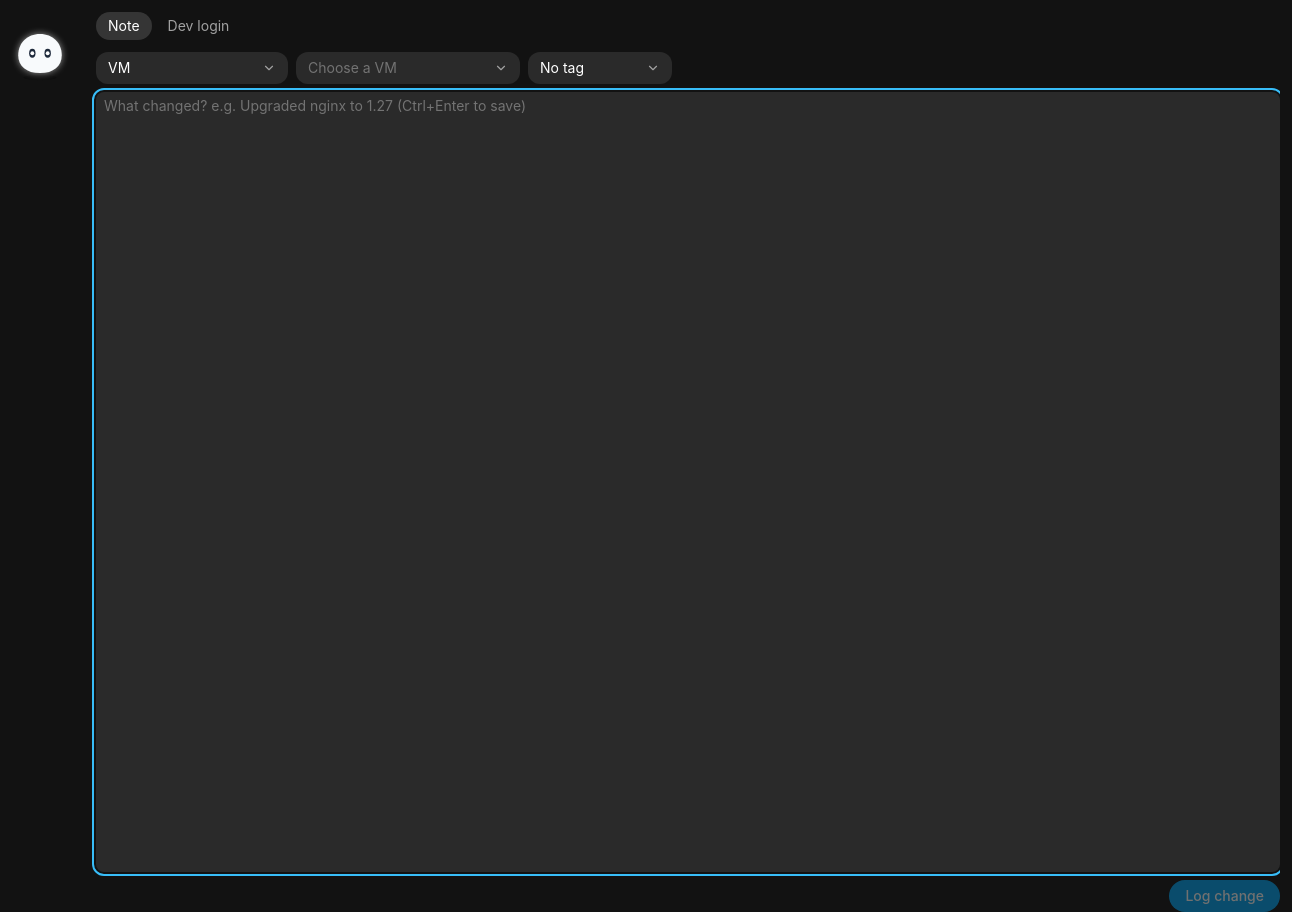
QuickAdd › offers existing names in a dropdown, per type
Click the button with aria-label "Name": x=408, y=68 [296,52,520,84]
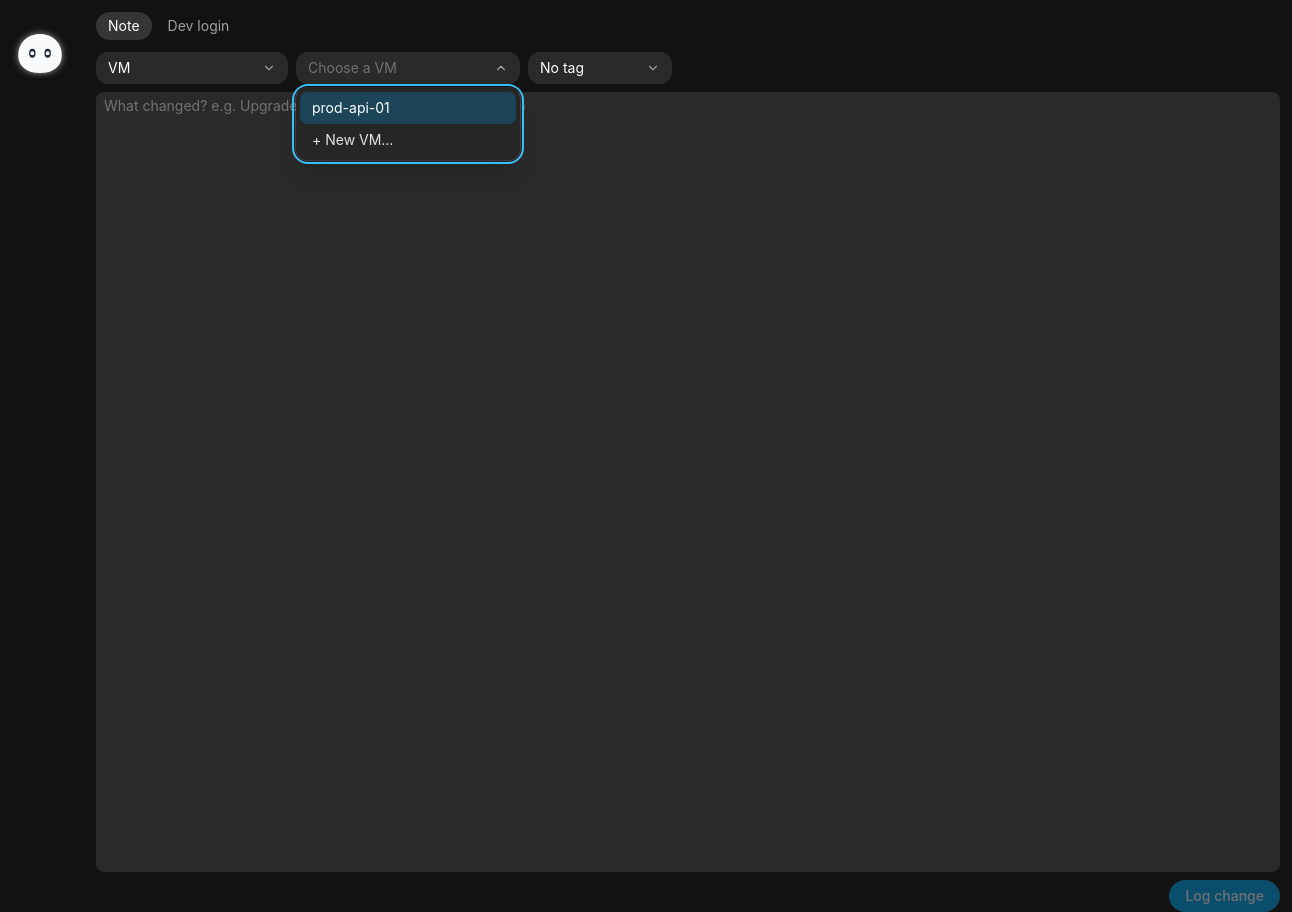
Check: the options read "prod-api-01", "+ New VM…", in this order, box [300,92,516,124]; [312,131,394,148]
Press Escape in the list, box [296,88,520,160]
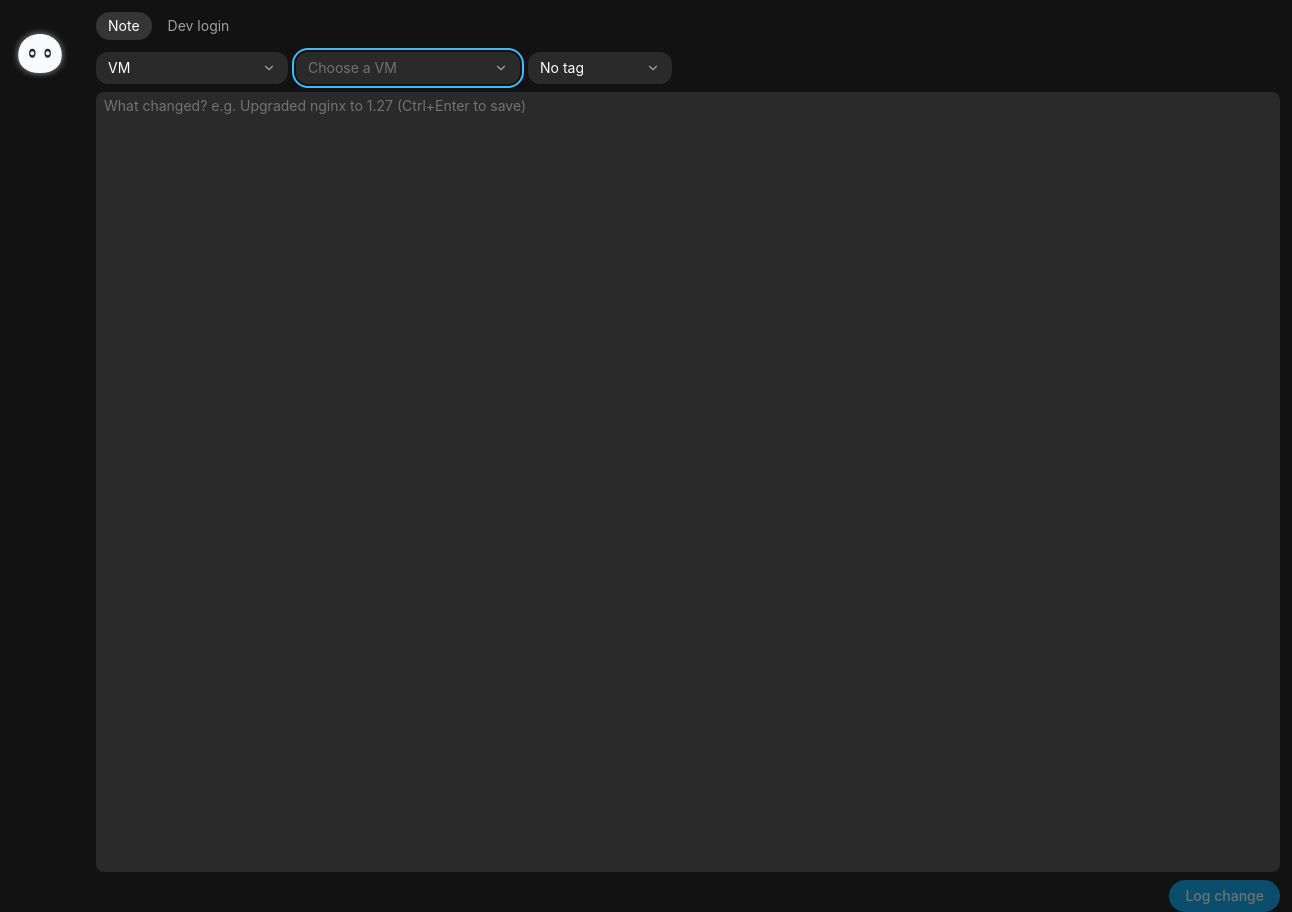
Click the button with aria-label "Target type": x=192, y=68 [96,52,288,84]
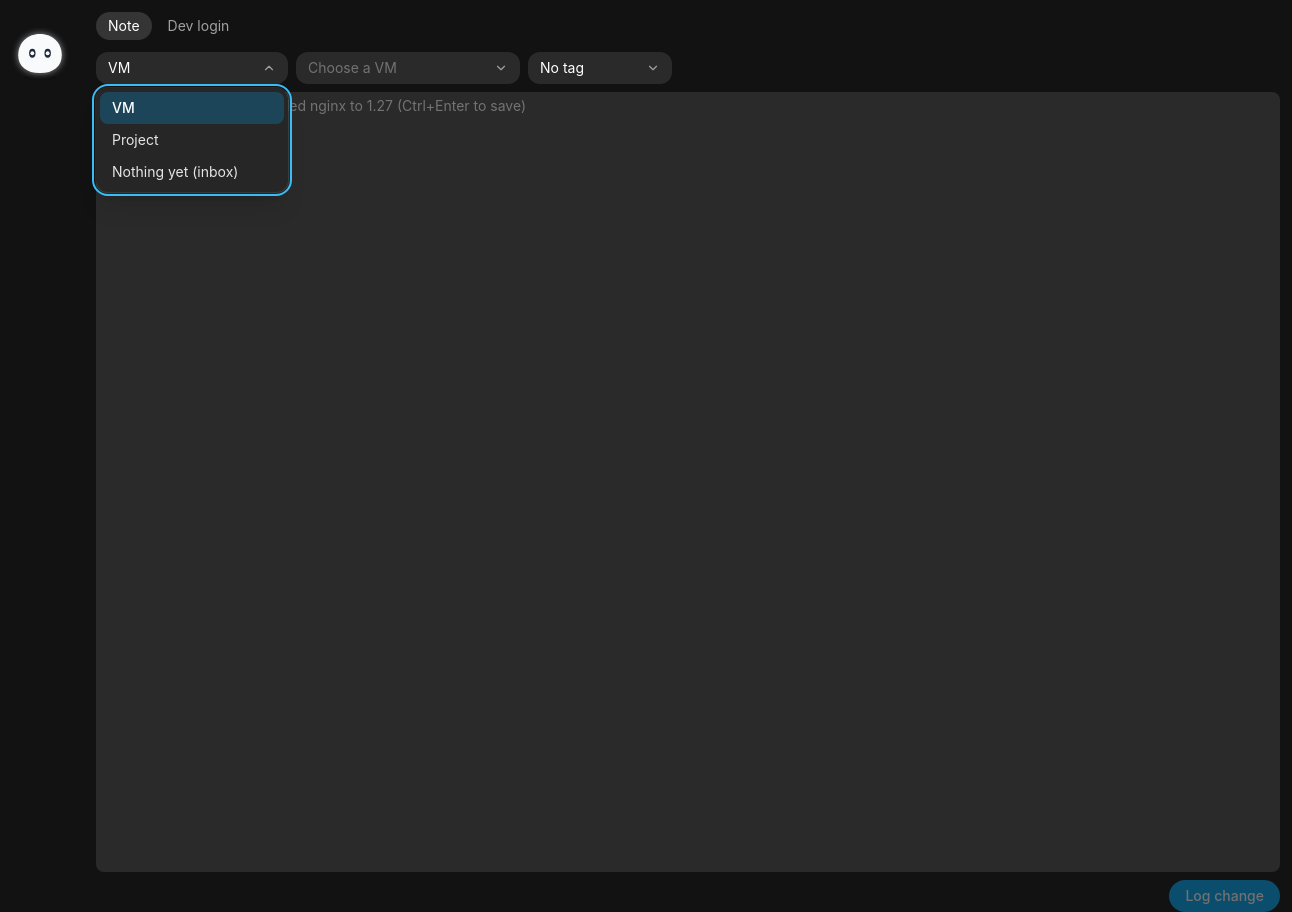
Click the option "Project": x=135, y=140 [112,131,158,148]
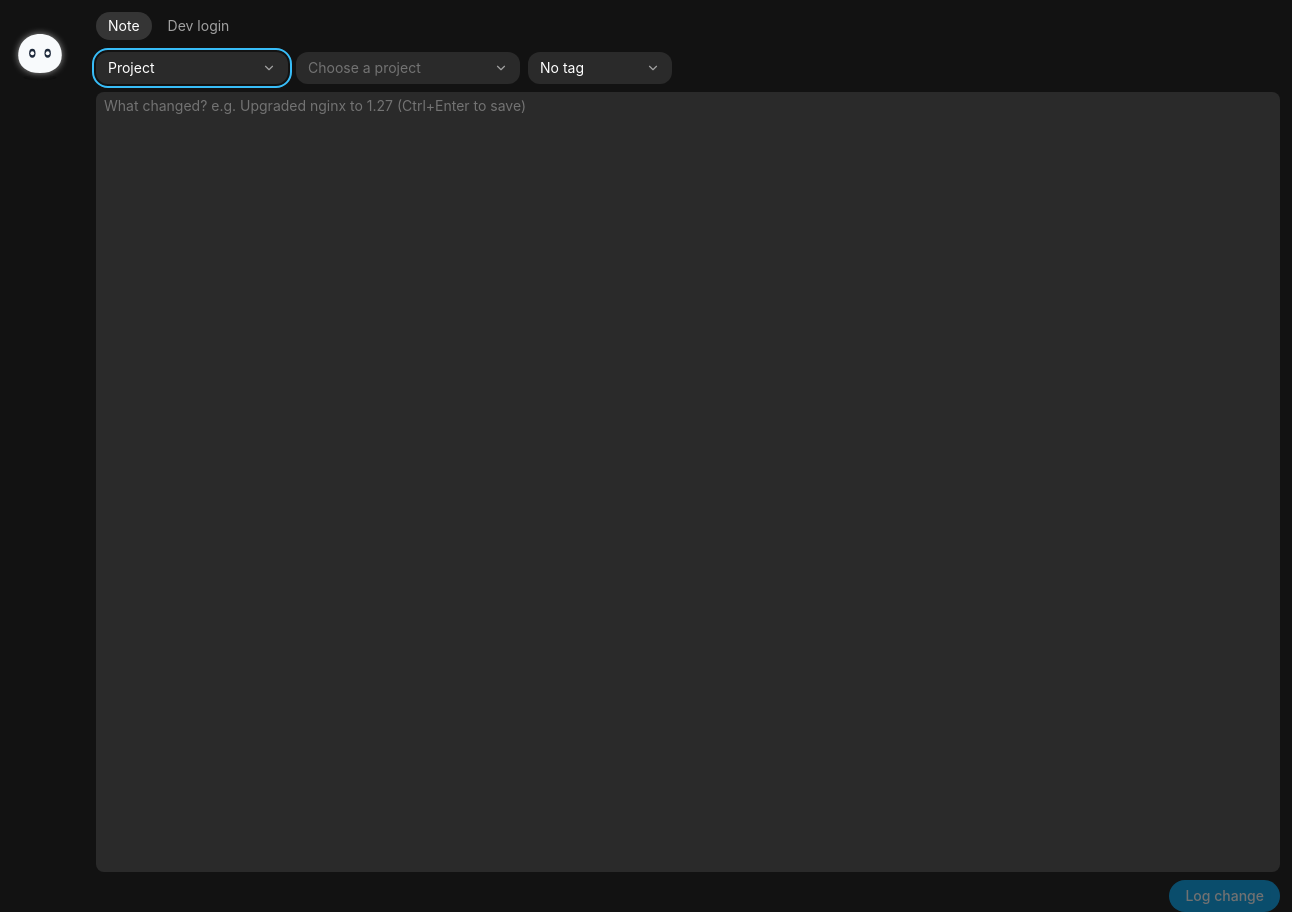
Click the button with aria-label "Name": x=408, y=68 [296,52,520,84]
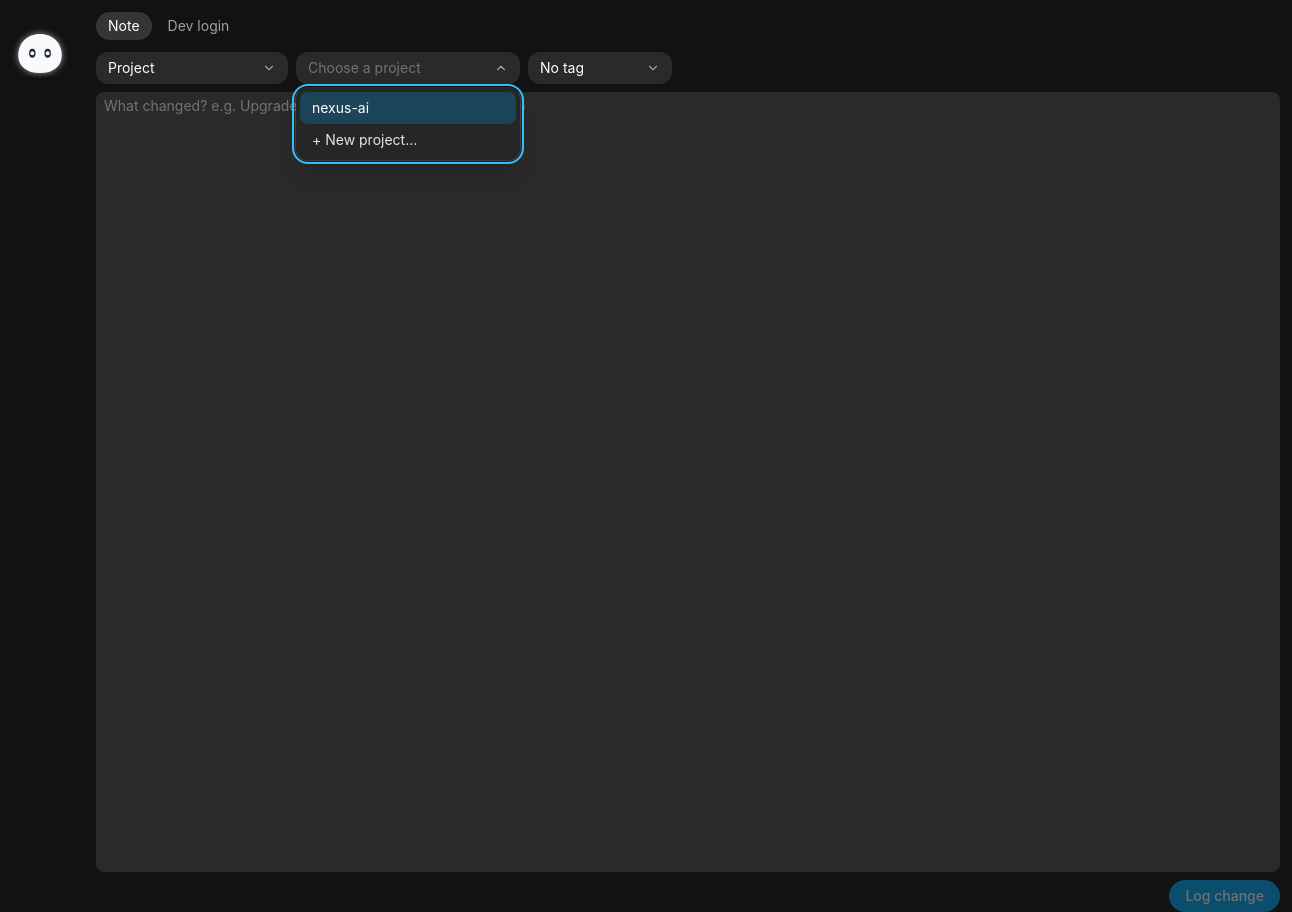
Check: the option "nexus-ai" is shown, box [300,92,516,124]
